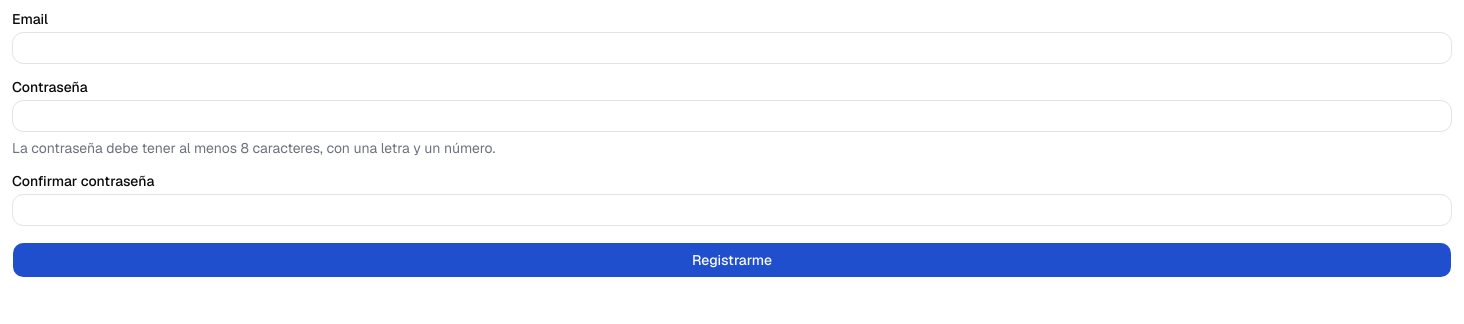
Test: RegisterForm (spec: web-auth-flow Registration) › blocks submit and shows an inline mismatch error when confirm-password differs (spec: Register Form Confirms Password Match)
This screenshot has width=1464, height=324.
In the field labelled "Email": (732, 48) top-left (12, 32), bottom-right (1452, 64), type "user@example.com"
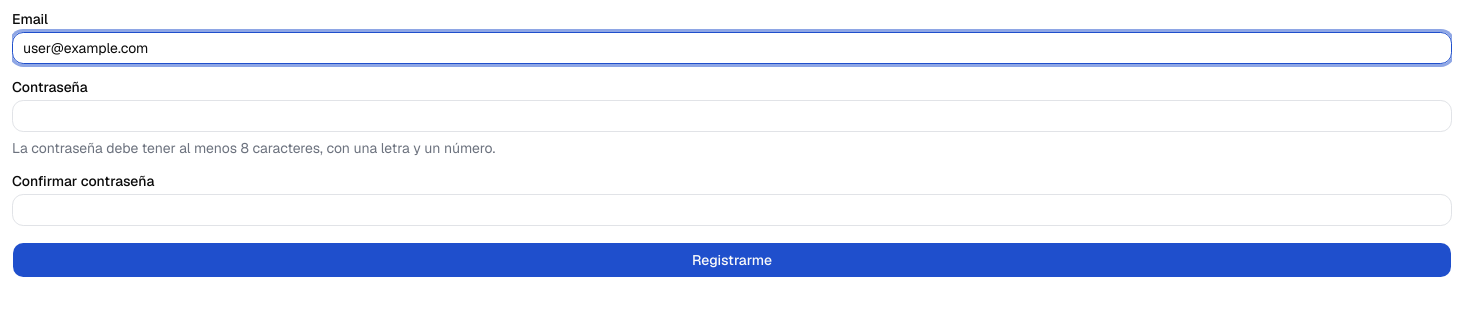
In the password field labelled "Contraseña": (732, 116) top-left (12, 100), bottom-right (1452, 132), type "correcthorse1"
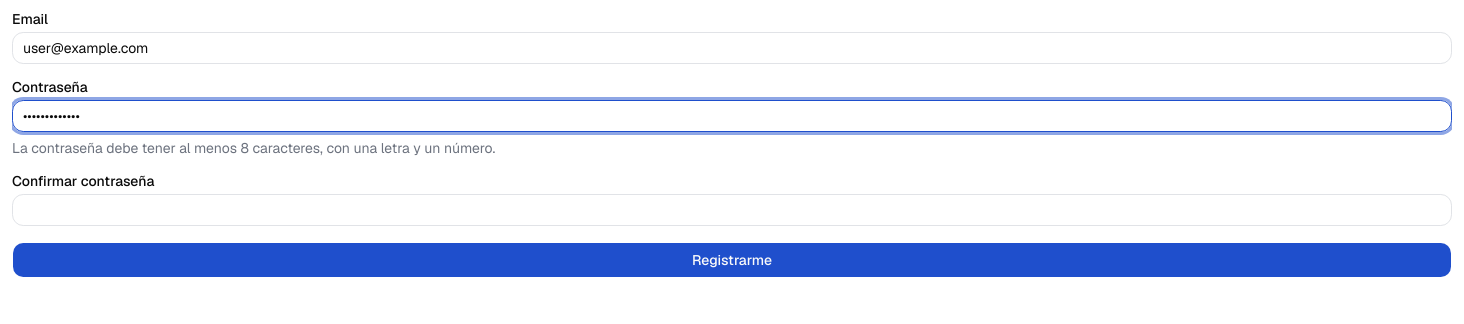
In the password field labelled "Confirmar contraseña": (732, 210) top-left (12, 194), bottom-right (1452, 226), type "different1"
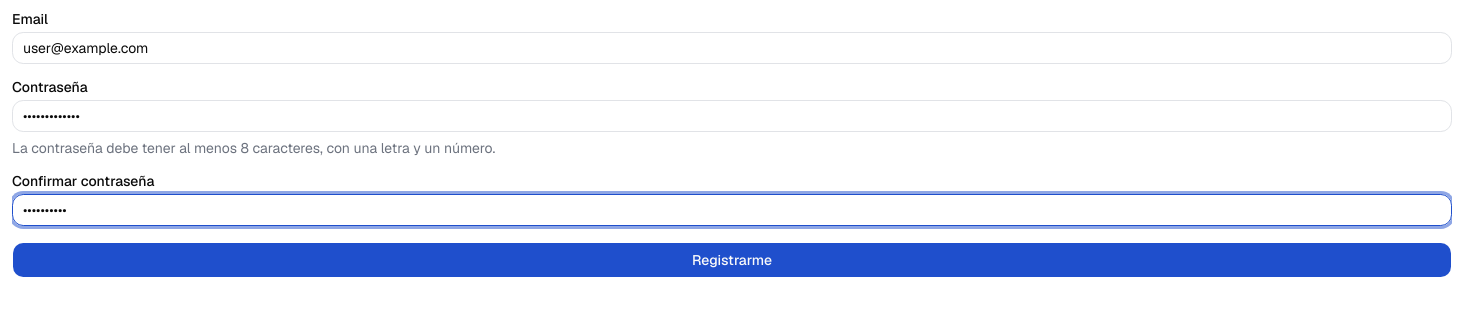
Click the button "Registrarme": click(732, 260) top-left (12, 242), bottom-right (1452, 278)
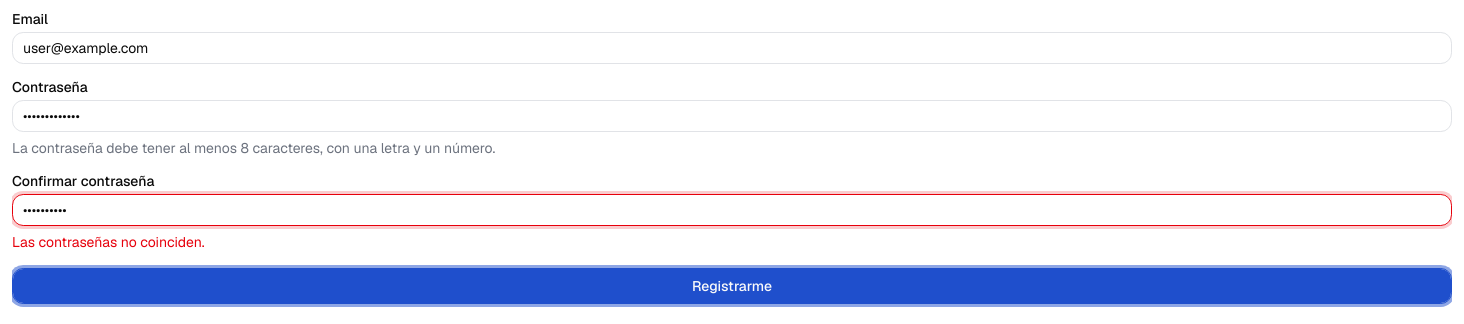
expect the text "Las contraseñas no coinciden." is shown: met, box top-left (12, 233), bottom-right (205, 251)
